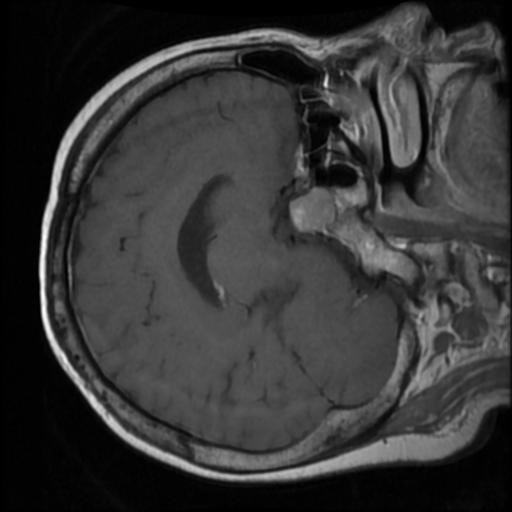pituitary tumour: (289, 188, 333, 230)
